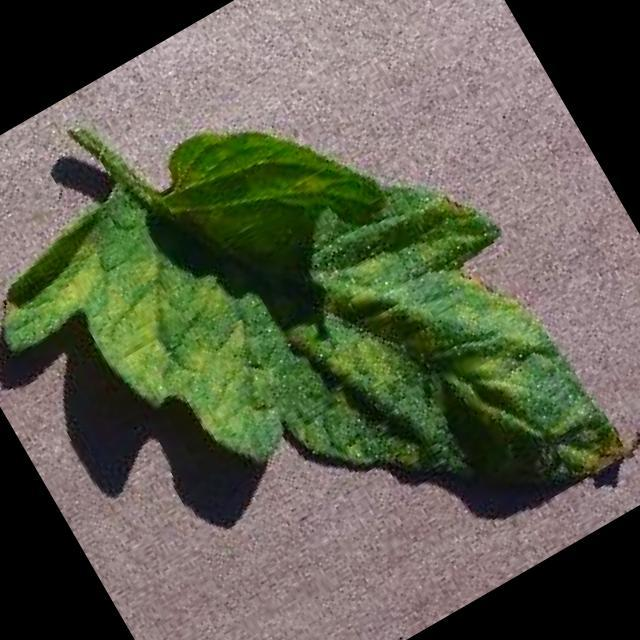Tomato mold leaf: (0, 28, 632, 640)
